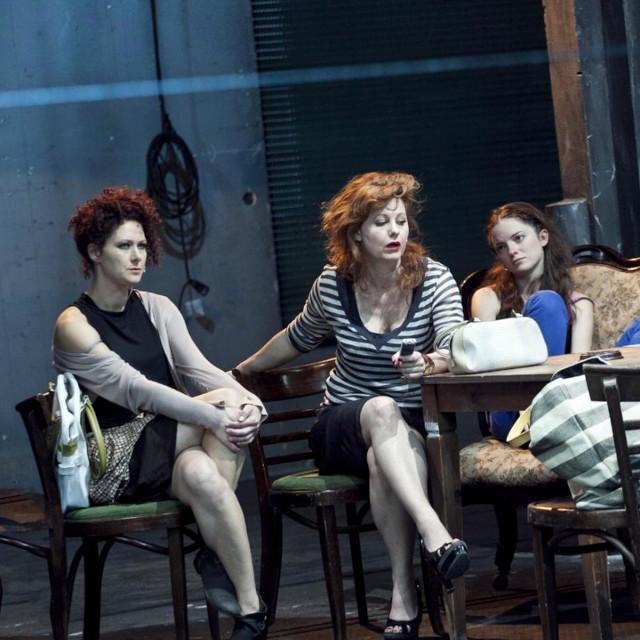kobieta: (60, 190, 270, 621), (292, 166, 463, 634), (478, 188, 600, 361)
